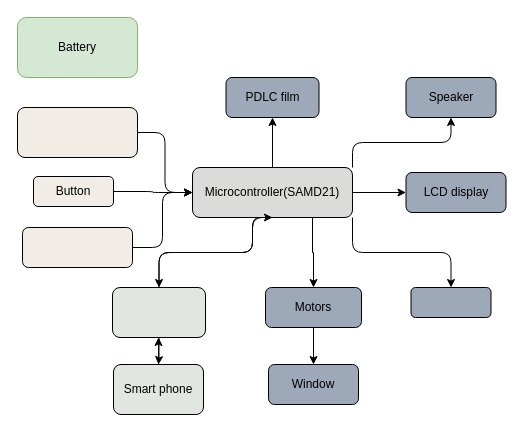
Image size: 524x432. Some labels were removed from this diagram. Each missing label, with the centre of its shape:
Air quality Sensor: pixel 77 247
RTC: pixel 450 302
Temperature - Humidity Sensor: pixel 77 132
WIFI module: pixel 159 312
